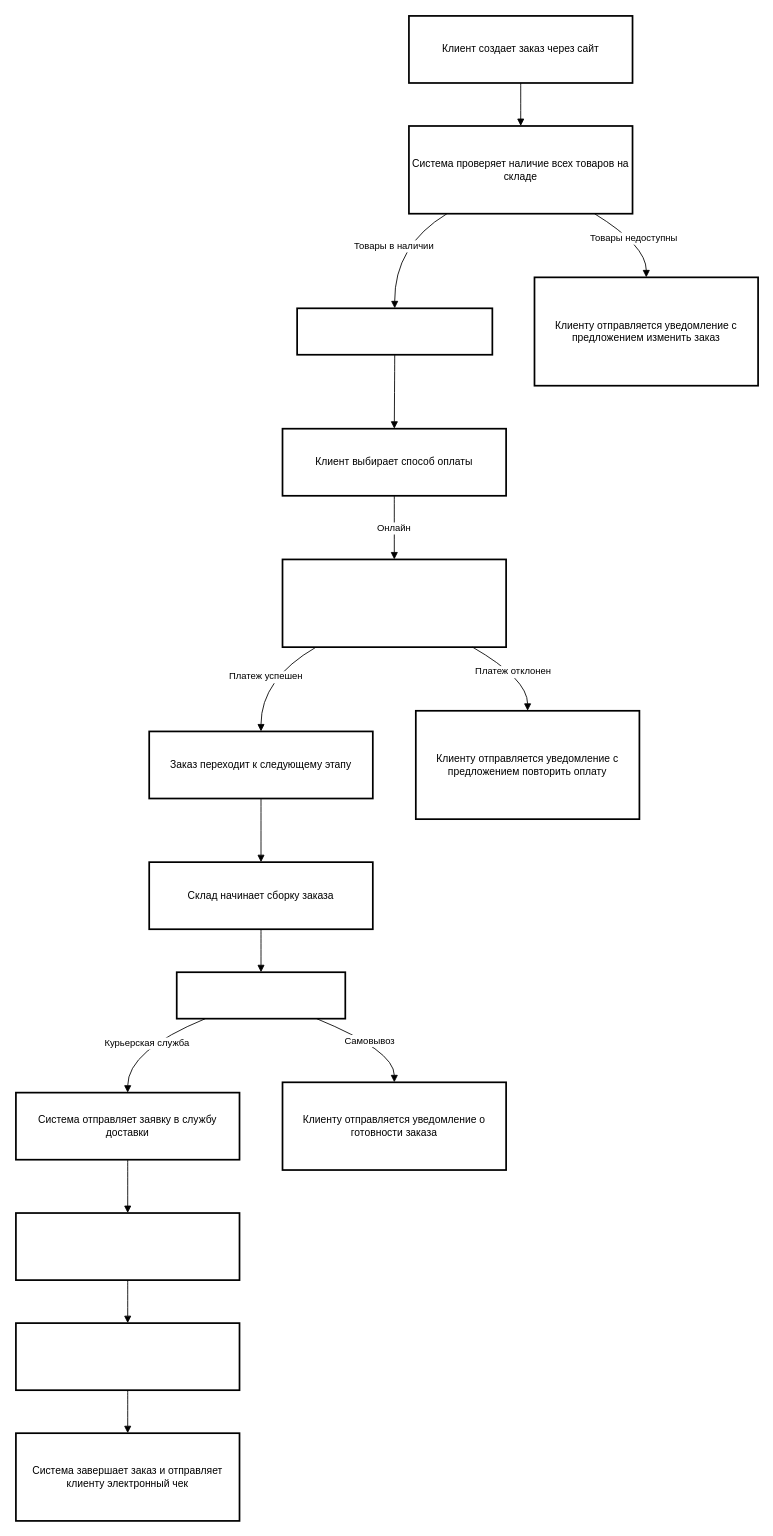
The diagram is 773 pixels wide and 1536 high, and some of its shapes have lost their labels. The centre of each missing label's shape, as x and y in pixels:
"Заказ подтверждается" belongs at pixel 394 331.
"Клиент подтверждает получение" belongs at pixel 127 1356.
"Курьер доставляет товар клиенту" belongs at pixel 127 1246.
"Сборка завершена" belongs at pixel 260 995.
"Система проверяет платеж через платежный шлюз" belongs at pixel 394 603.
